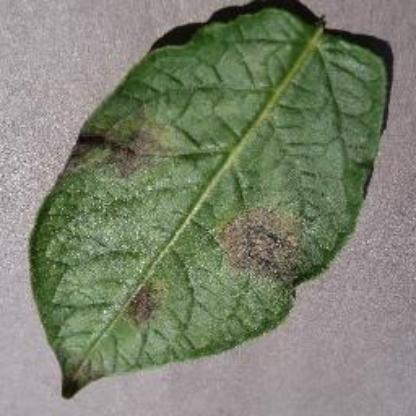Late-Blight: (27, 4, 393, 402)
